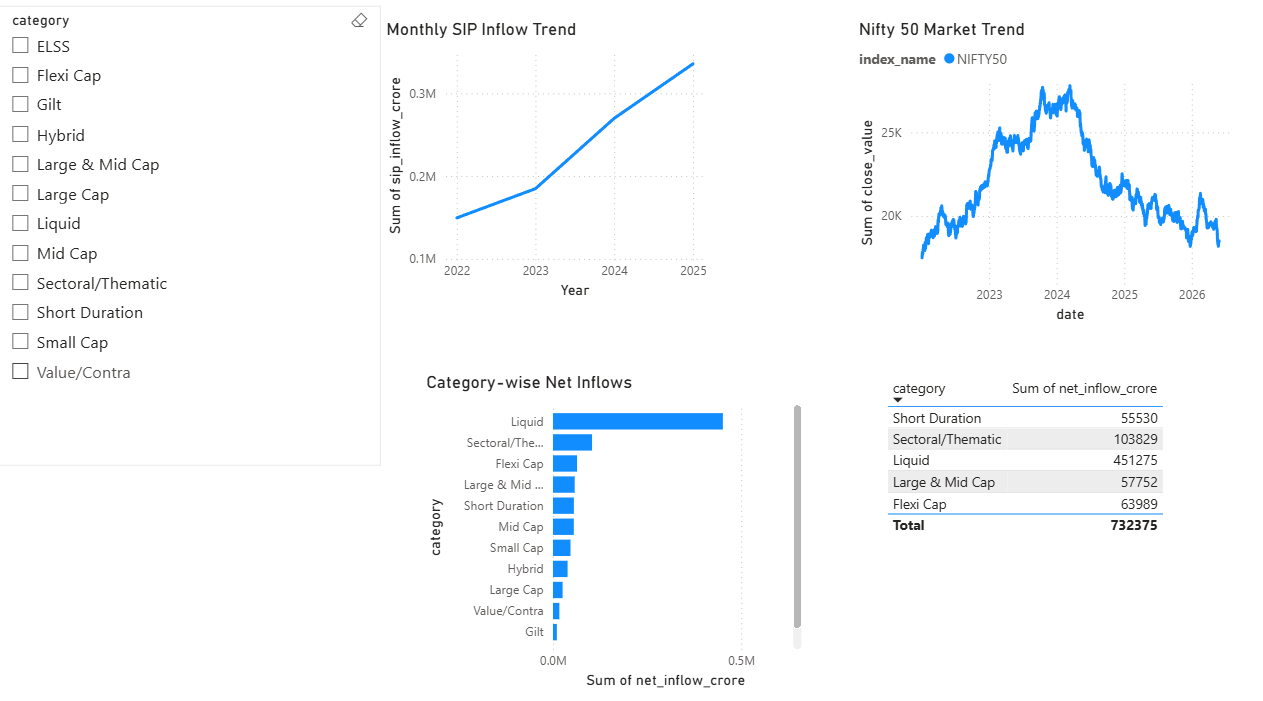

The dashboard page shown, as its layout file describes it:
{"tool":"powerbi","page":{"name":"SIP & Market Trends","canvas":[1280,720],"ordinal":3},"visuals":[{"type":"lineChart","title":"Monthly SIP Inflow Trend","fields":{"Category":["monthly_sip_inflows_clean.month.Variation.Date Hierarchy.Year","monthly_sip_inflows_clean.month.Variation.Date Hierarchy.Quarter","monthly_sip_inflows_clean.month.Variation.Date Hierarchy.Month","monthly_sip_inflows_clean.month.Variation.Date Hierarchy.Day"],"Y":["Sum(monthly_sip_inflows_clean.sip_inflow_crore)"]},"box":[398.6,40.7,323,279.3],"z":0},{"type":"clusteredBarChart","title":"Category-wise Net Inflows","fields":{"Category":["category_inflows_clean.category"],"Y":["Sum(category_inflows_clean.net_inflow_crore)"]},"box":[437.9,387,376.8,314.3],"z":1000},{"type":"lineChart","title":"Nifty 50 Market Trend","fields":{"Category":["benchmark_indices_clean.date"],"Y":["Sum(benchmark_indices_clean.close_value)"],"Series":["benchmark_indices_clean.index_name"]},"box":[861.3,40.7,375.4,302.6],"z":2000},{"type":"tableEx","fields":{"Values":["category_inflows_clean.category","Sum(category_inflows_clean.net_inflow_crore)"]},"box":[887.5,387,376.8,314.3],"z":3000},{"type":"slicer","fields":{"Values":["category_inflows_clean.category"]},"box":[24.7,27.6,373.9,451],"z":4000}]}

Visuals, with their boxes in screenshot pixels (x1, y1, x2, y2), scaled from the page's 1280x720 canvas onto the 1263x701 screenshot:
"Monthly SIP Inflow Trend" lineChart: [x1=393, y1=40, x2=712, y2=312]
"Category-wise Net Inflows" clusteredBarChart: [x1=432, y1=377, x2=804, y2=683]
"Nifty 50 Market Trend" lineChart: [x1=850, y1=40, x2=1220, y2=334]
tableEx - category_inflows_clean.category x Sum(category_inflows_clean.net_inflow_crore): [x1=876, y1=377, x2=1248, y2=683]
slicer - category_inflows_clean.category: [x1=24, y1=27, x2=393, y2=466]
